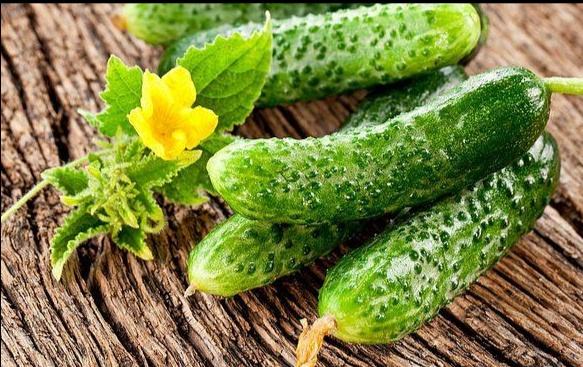cucumber: (332, 129, 556, 333), (213, 77, 541, 216)
cucumber_plant: (56, 13, 267, 253)
